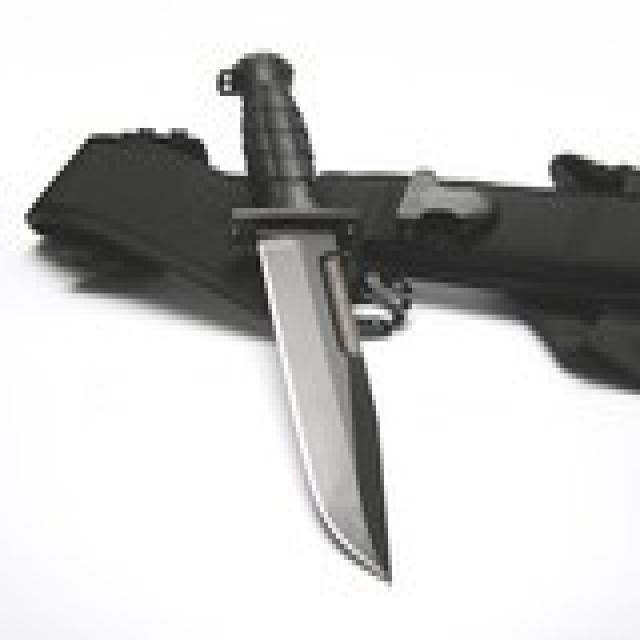Knife: (218, 39, 399, 578)
